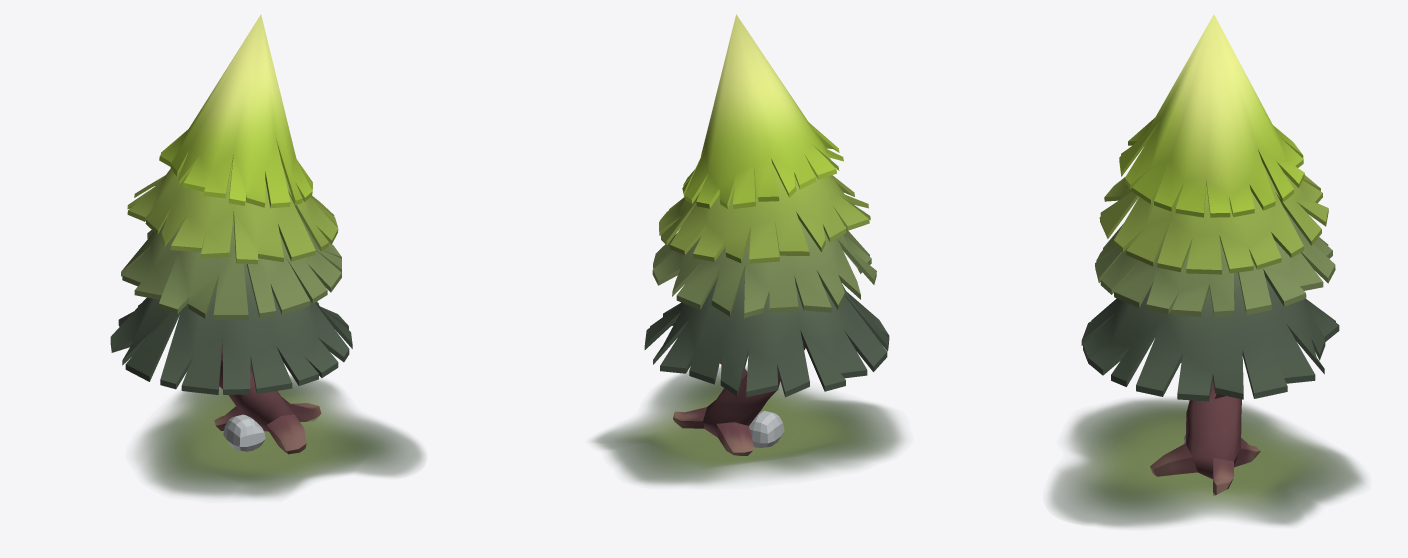
File: treescene.glb
3 views of the same model, side by side, from view 1: azimuth 30°, elevation 25°; view 2: azimuth 150°, elevation 25°; view 3: azimuth 270°, elevation 25° (orthographic). The views are drawn at different scales.
Visible parts, largest first — view 1: group3_pasted__group1_pasted__pasted__pCone1, pPlane1, pCube3; view 2: group3_pasted__group1_pasted__pasted__pCone1, pPlane1, pCube3; view 3: group3_pasted__group1_pasted__pasted__pCone1, pPlane1.
Part boxes in pixels (<box>): group3_pasted__group1_pasted__pasted__pCone1: <box>110,14,352,454</box>; pPlane1: <box>134,375,424,498</box>; pCube3: <box>223,414,265,451</box>; group3_pasted__group1_pasted__pasted__pCone1: <box>644,14,889,455</box>; pPlane1: <box>591,367,905,485</box>; pCube3: <box>749,410,784,447</box>; group3_pasted__group1_pasted__pasted__pCone1: <box>1081,14,1339,495</box>; pPlane1: <box>1048,398,1365,527</box>.
Bounding box in the file's own units: 6.76 × 9.19 × 6.76.
3 materials, 2 textured.
